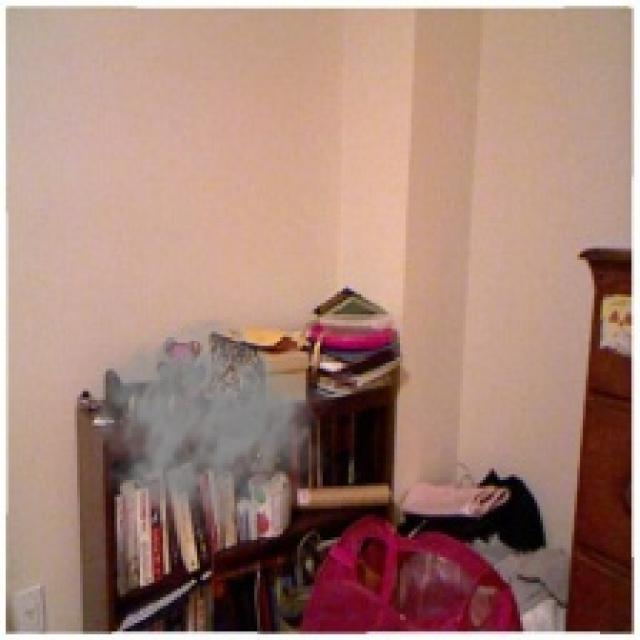smoke: (86, 317, 337, 554)
